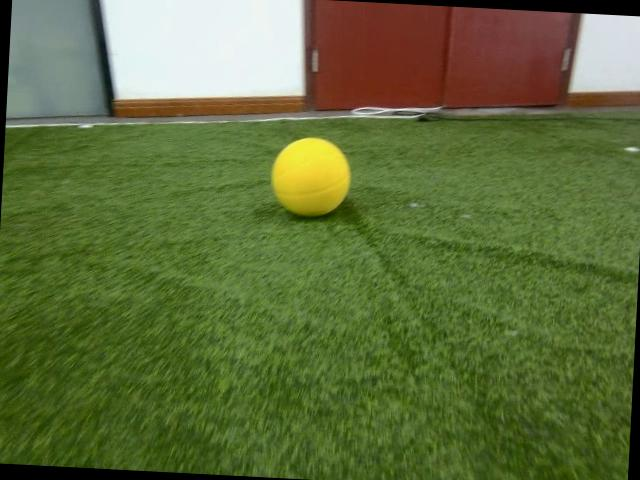yellow_ball: (268, 134, 354, 222)
